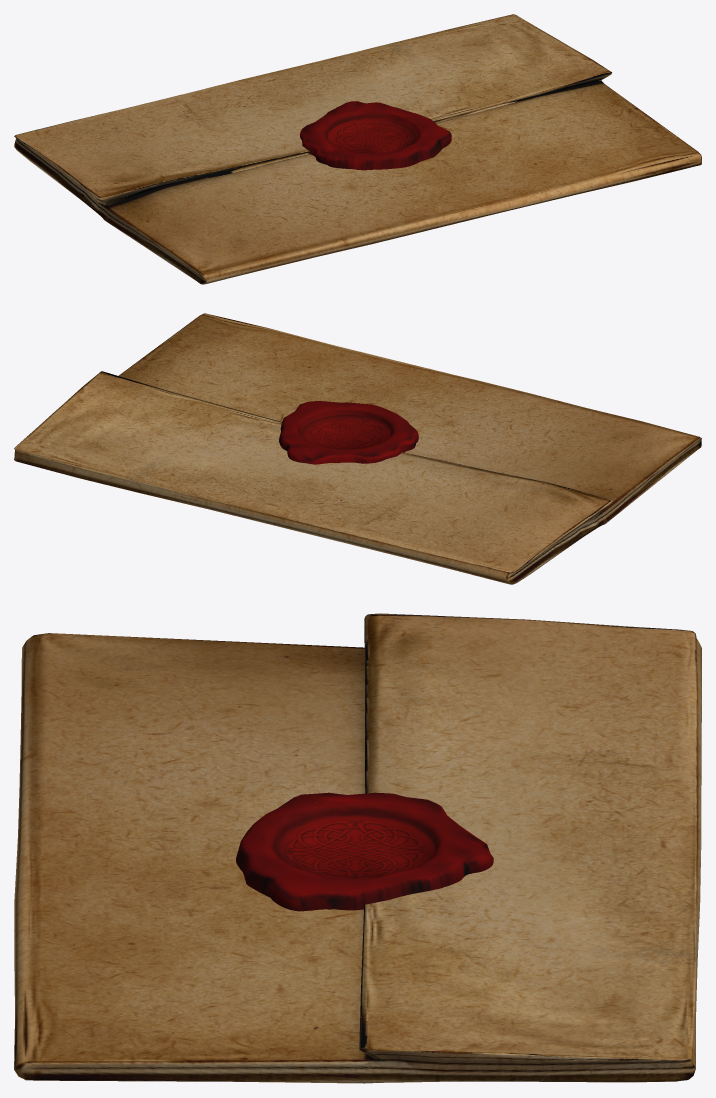
Rendered from letter_01.fbx.
The picture shows the model from 3 angles, top to bottom: view 1: azimuth 30°, elevation 25°; view 2: azimuth 150°, elevation 25°; view 3: azimuth 270°, elevation 25°; orthographic projection. The views are drawn at different scales.
Visible parts, largest first — view 1: letter_01; view 2: letter_01; view 3: letter_01.
Boxes of the visible parts, x1=… form: letter_01: x1=14, y1=14, x2=701, y2=284; letter_01: x1=14, y1=313, x2=701, y2=584; letter_01: x1=14, y1=613, x2=701, y2=1083.
Bounding box in the file's own units: 51.96 × 2.95 × 34.25.
